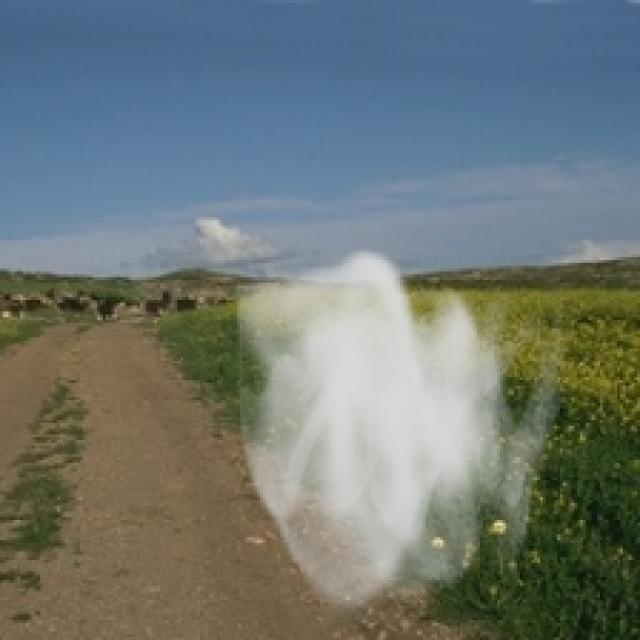Smoke: (226, 246, 572, 623)
